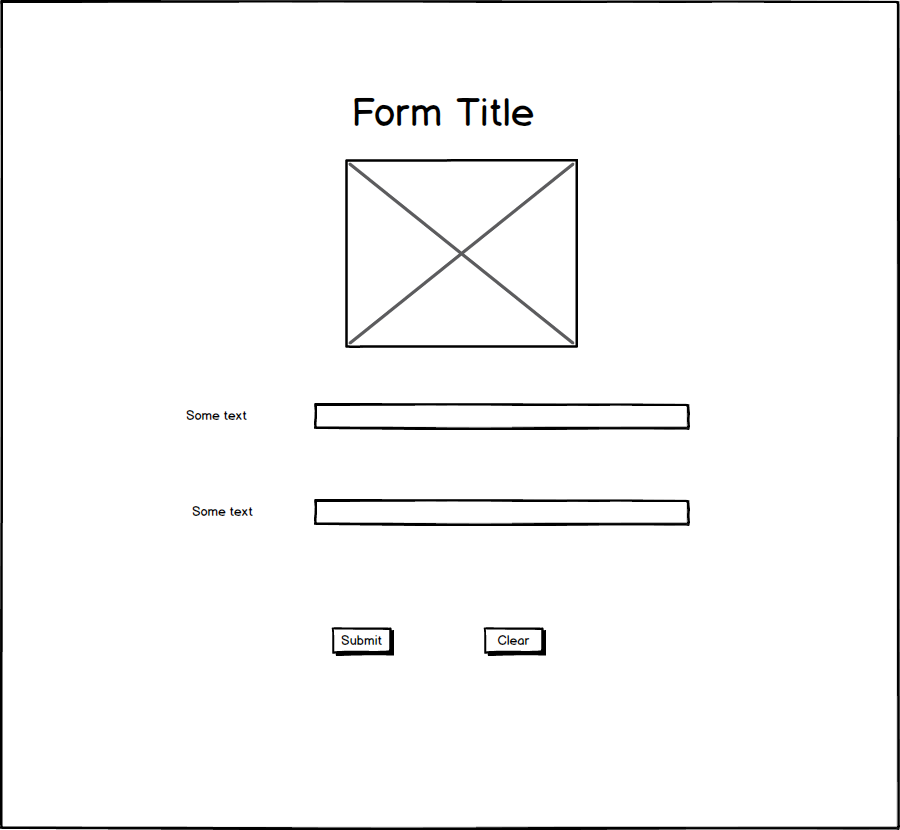button: (478, 624, 554, 662), (328, 624, 401, 662)
h1: (344, 92, 545, 135)
image: (339, 152, 585, 352)
input: (308, 393, 704, 439), (307, 493, 696, 529)
label: (188, 492, 269, 525), (177, 402, 265, 429)
